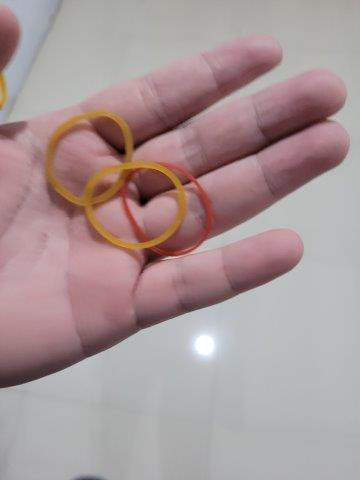karet: (82, 165, 189, 248), (122, 165, 215, 260), (46, 111, 134, 210)
